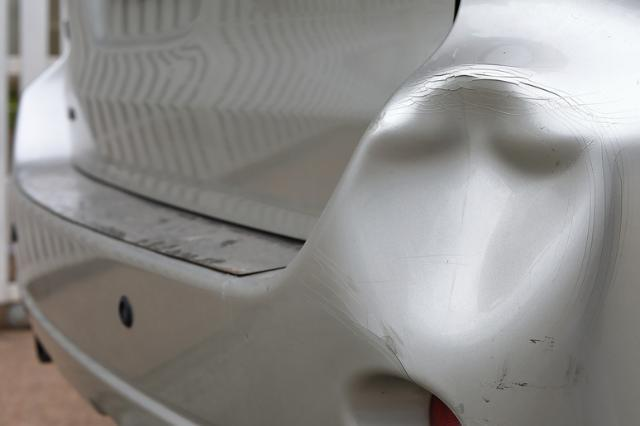Bumper: (303, 49, 607, 390)
